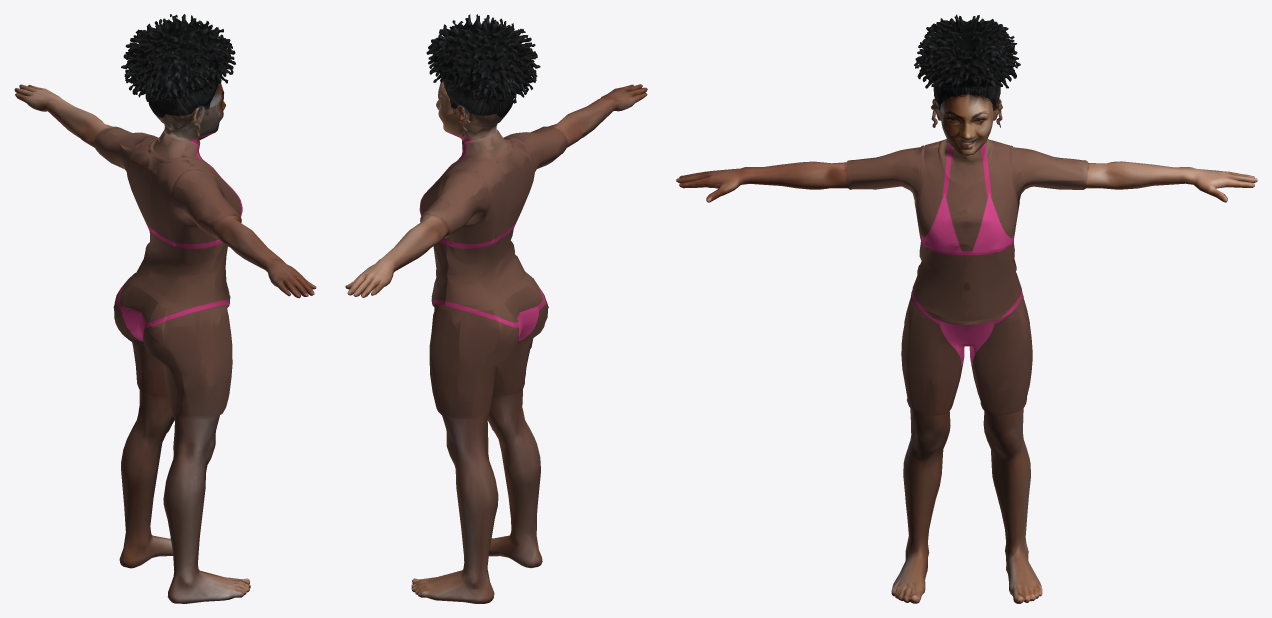
The model's file is the-champ.glb.
3 views of the same model, side by side, from view 1: azimuth 30°, elevation 25°; view 2: azimuth 150°, elevation 25°; view 3: azimuth 270°, elevation 25° (orthographic).
Parts seen in each view (by area): view 1: the-champ; view 2: the-champ; view 3: the-champ.
Part boxes in pixels (bbox=[...]): the-champ: bbox=[14, 14, 316, 603]; the-champ: bbox=[345, 14, 647, 603]; the-champ: bbox=[676, 14, 1257, 603].
Size of the model in its own units: 0.1819 by 0.9741 by 0.9155.
1 material, 1 textured.
